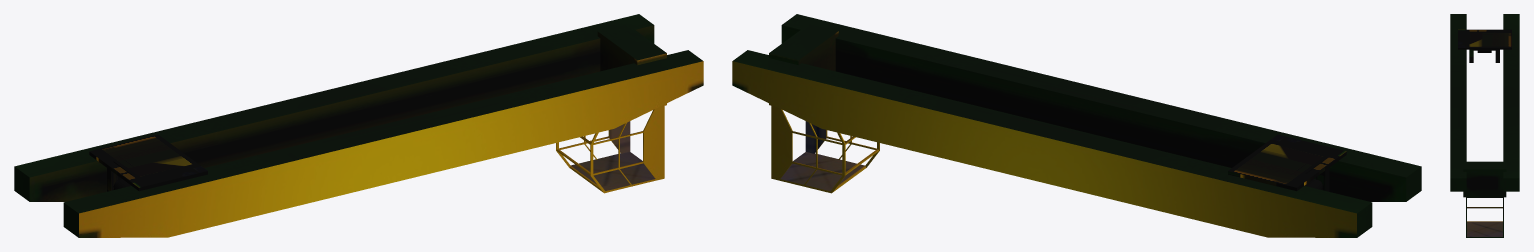
The model's file is crane.obj.
3 renders of one model, left to right at view 1: azimuth 30°, elevation 25°; view 2: azimuth 150°, elevation 25°; view 3: azimuth 270°, elevation 25°, orthographic. The views are drawn at different scales.
Parts seen in each view (by area): view 1: Box030, Cylinder001; view 2: Box030, Cylinder001; view 3: Box030, Cylinder001.
Boxes of the visible parts, x1,y1,x2,y2 form: Box030: (14, 14, 703, 237); Cylinder001: (89, 134, 207, 191); Box030: (732, 14, 1421, 237); Cylinder001: (1228, 134, 1346, 191); Box030: (1450, 14, 1519, 237); Cylinder001: (1458, 29, 1511, 62).
Bounding box in the file's own units: 34.86 × 6.79 × 6.22.
